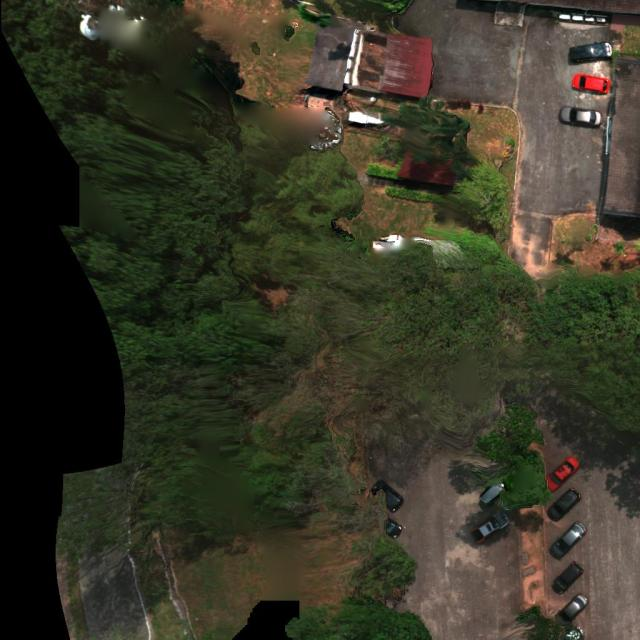Tree: (0, 0, 327, 536), (362, 227, 537, 367), (529, 264, 640, 432), (469, 402, 553, 512), (284, 591, 433, 640), (381, 94, 472, 166), (451, 165, 511, 230), (510, 604, 586, 640)
